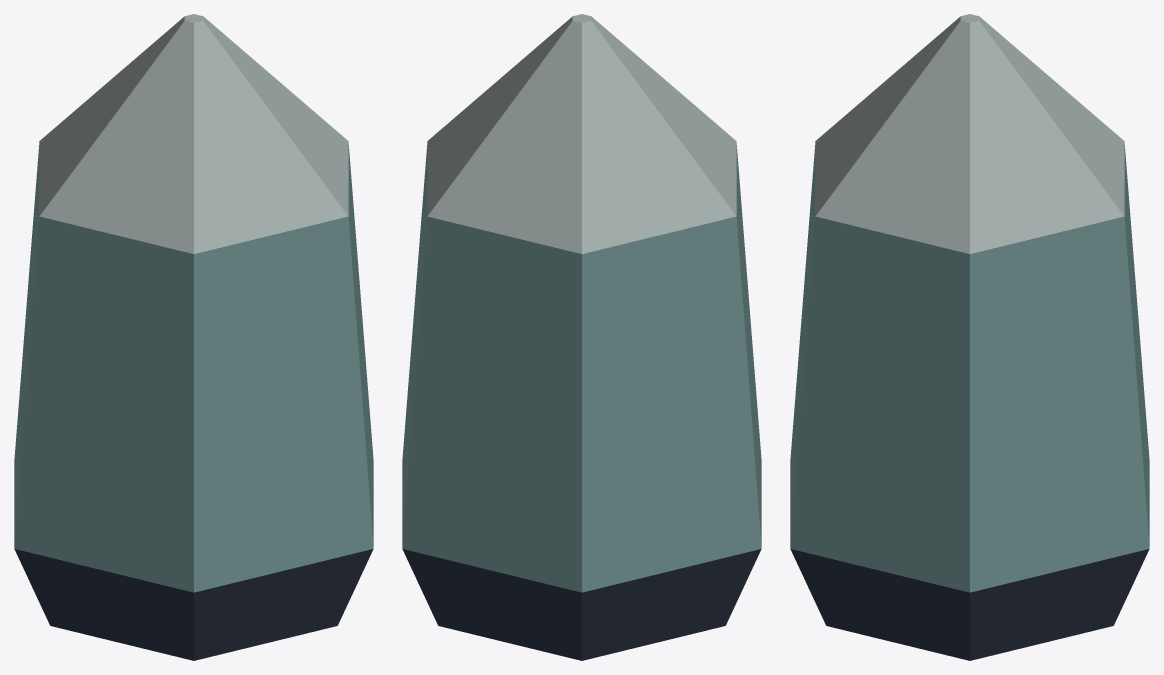
Rendered from crystal-small.glb.
3 renders of one model, left to right at view 1: azimuth 30°, elevation 25°; view 2: azimuth 150°, elevation 25°; view 3: azimuth 270°, elevation 25°, orthographic.
Visible parts, largest first — view 1: crystal-small__body; view 2: crystal-small__body; view 3: crystal-small__body.
Part boxes in pixels (<box>): crystal-small__body: <box>14,14,373,660</box>; crystal-small__body: <box>402,14,761,660</box>; crystal-small__body: <box>790,14,1149,660</box>.
Size of the model in its own units: 0.46 by 0.7 by 0.3984.
